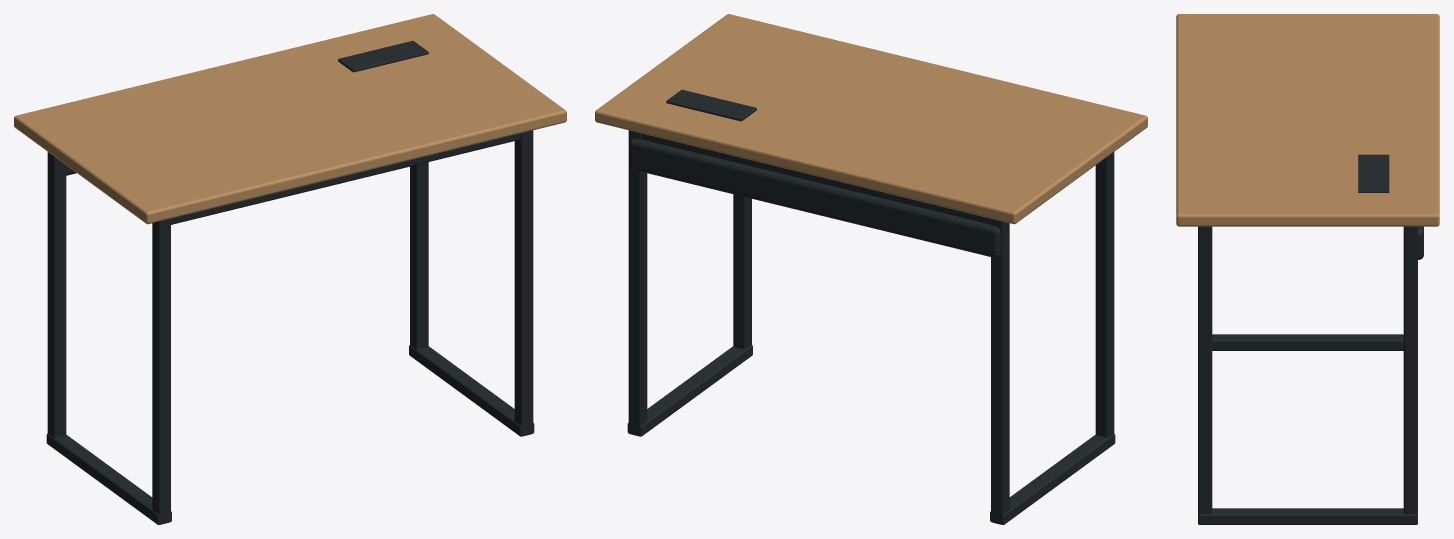
The model's file is workDesk-3.glb.
3 renders of one model, left to right at view 1: azimuth 30°, elevation 25°; view 2: azimuth 150°, elevation 25°; view 3: azimuth 270°, elevation 25°, orthographic.
Parts seen in each view (by area): view 1: workDesk:3:archviz; view 2: workDesk:3:archviz; view 3: workDesk:3:archviz.
Boxes of the visible parts, box(x1,y1,x2,y2) form: workDesk:3:archviz: box(14, 14, 566, 524); workDesk:3:archviz: box(595, 14, 1147, 524); workDesk:3:archviz: box(1176, 14, 1439, 524).
Size of the model in its own units: 1 by 0.7455 by 0.55.
